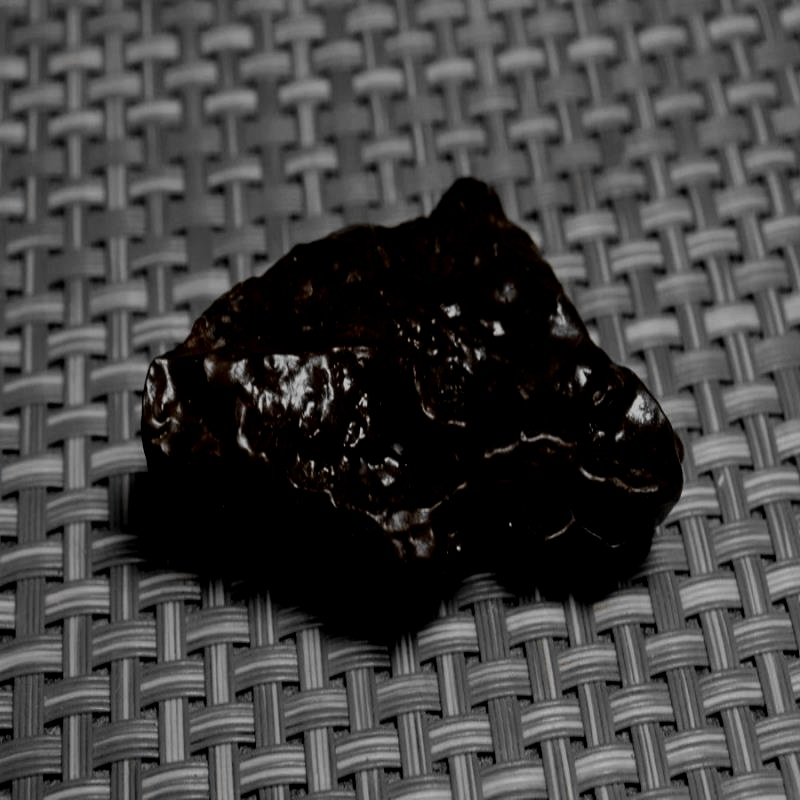halobolite: (126, 170, 697, 609)
